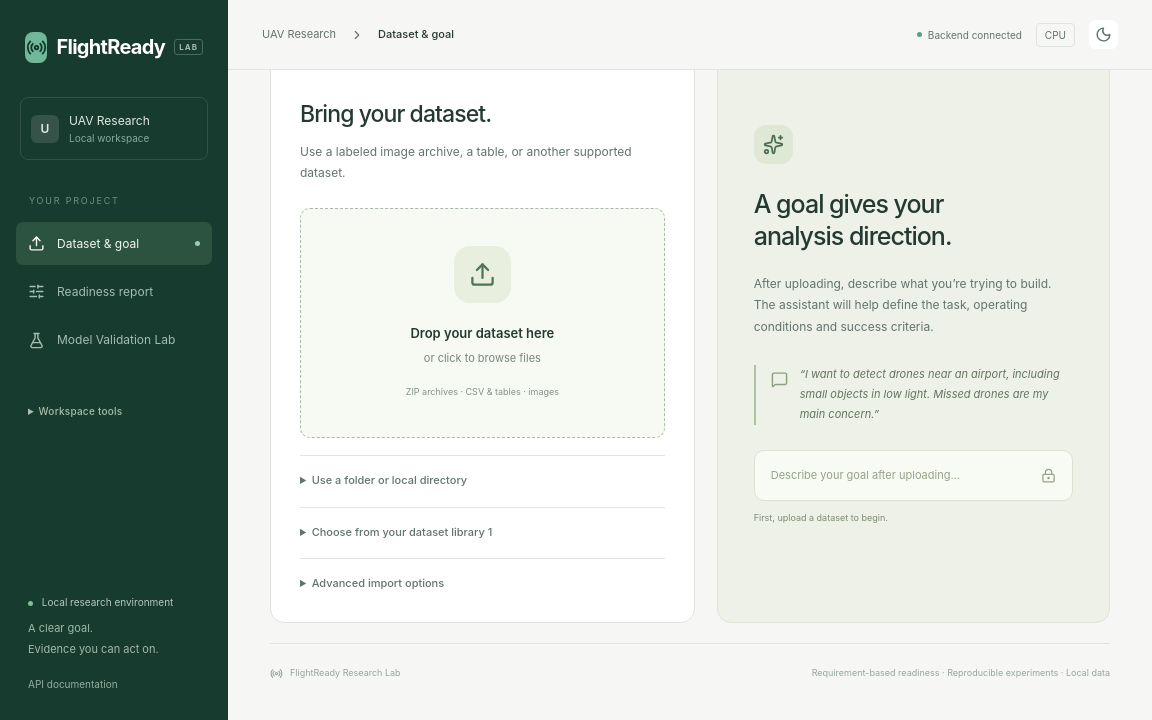
Test: shows the safe Gemini failure reason alongside the local draft
The image size is (1152, 720).
(page scrolled)
Step 1. Click the heading "Choose from your dataset library 1" → [402, 532], box left=312, top=525, right=492, bottom=539
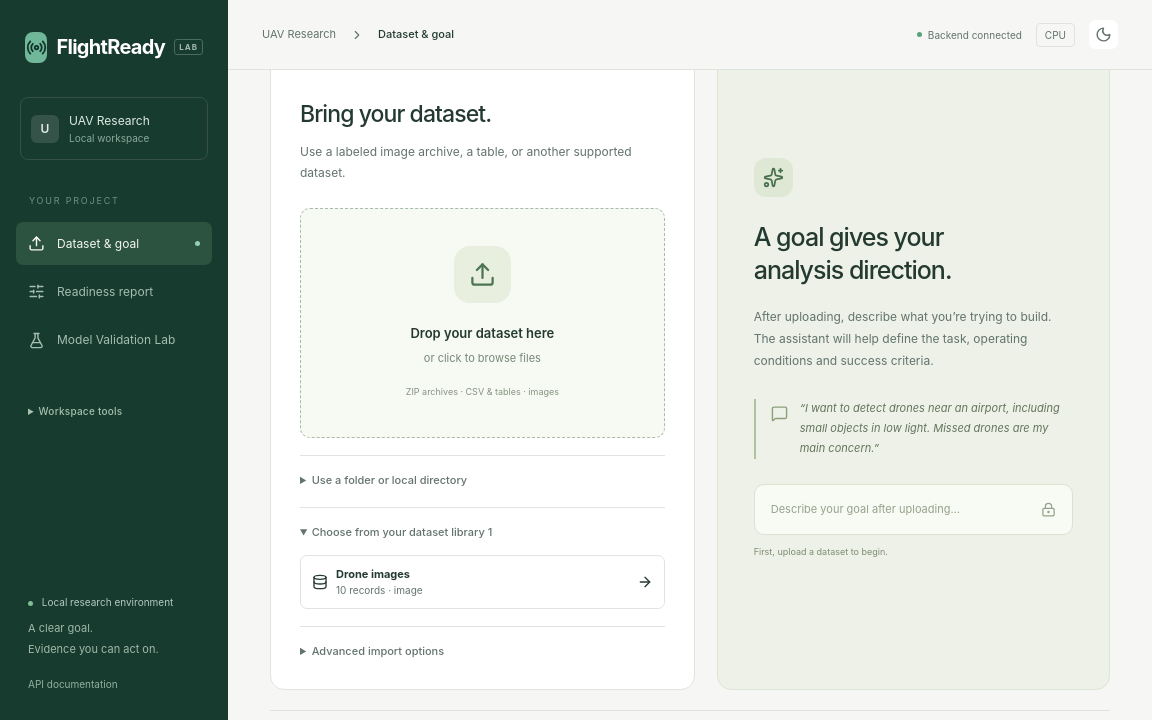
Step 2. Click the button "Drone images 10 records · image" → [373, 574], box left=300, top=555, right=665, bottom=609
(page scrolled)
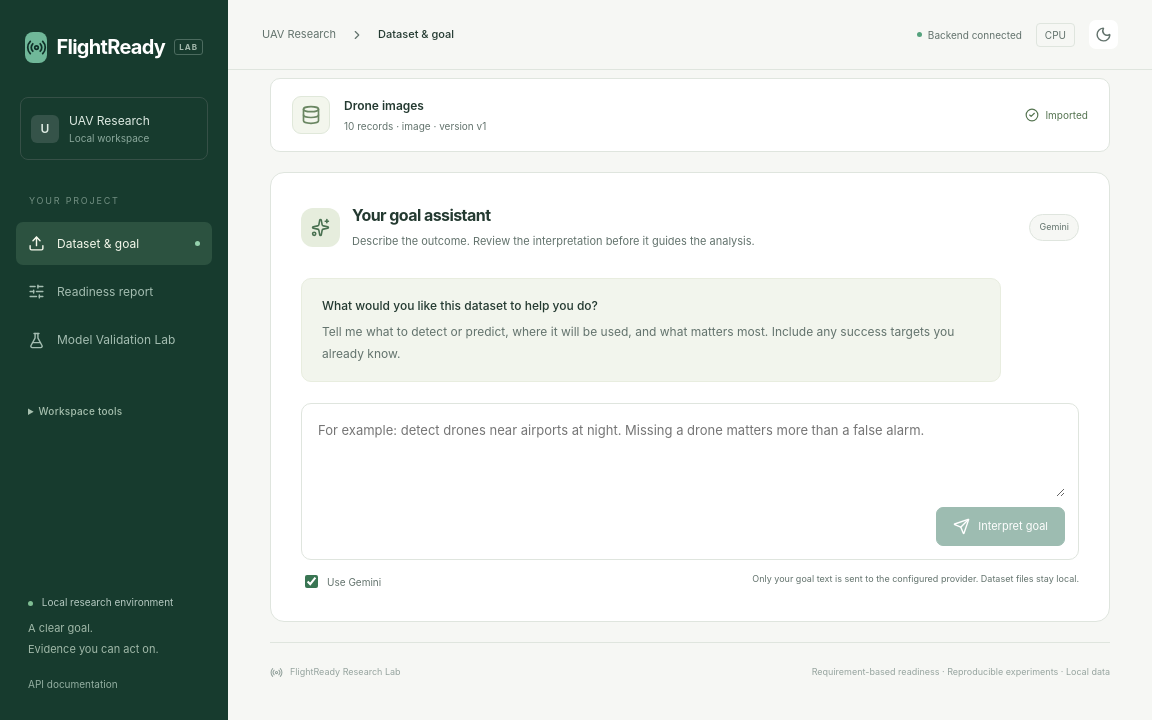
Now the text box named "Describe your goal" is shown
Step 3. Type "Detect drones in images" into the text box named "Describe your goal" → [690, 458], box left=315, top=418, right=1065, bottom=498
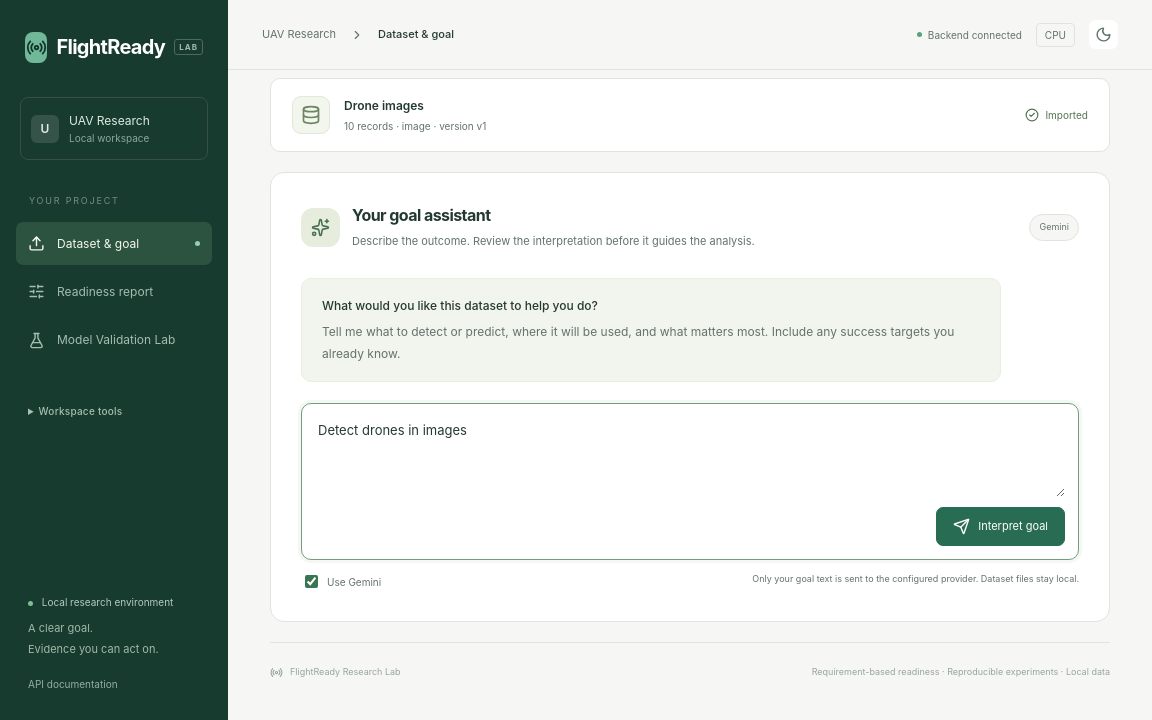
Step 4. Click the button "Interpret goal" → [1001, 527], box left=936, top=508, right=1065, bottom=546
(page scrolled)
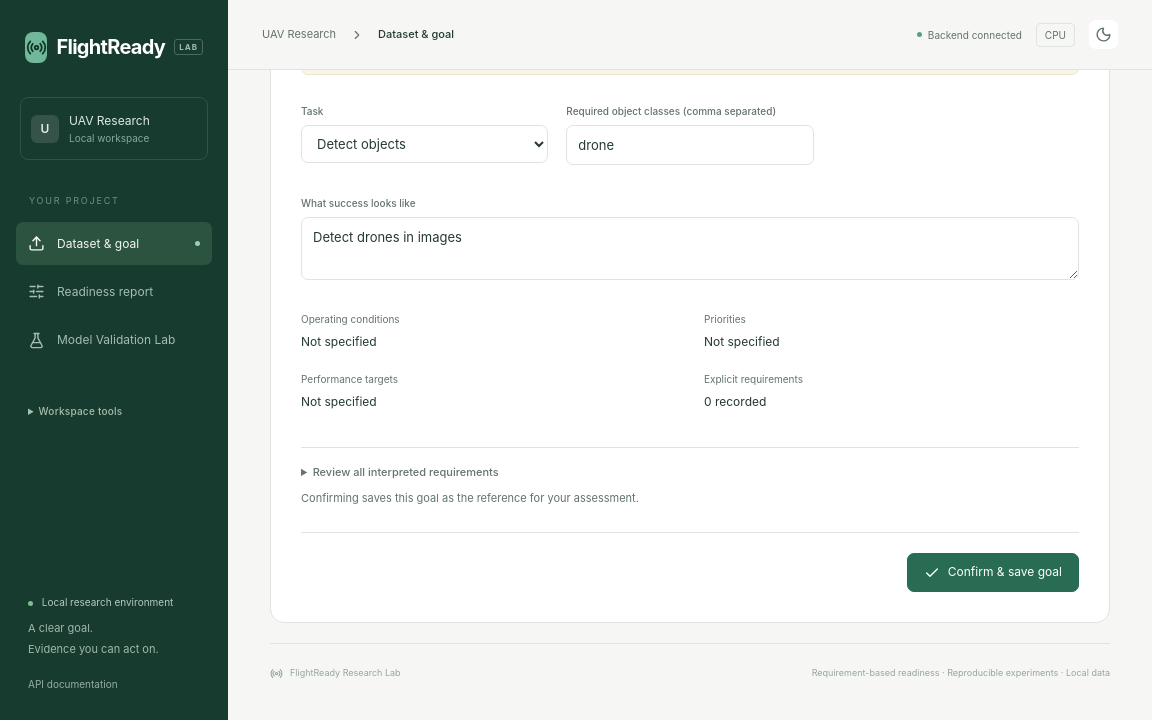
Expected: the text "Gemini quota or rate limit reached (HTTP 429)." is shown, left=319, top=14, right=562, bottom=28
Now the button "Confirm & save goal" is enabled, box left=907, top=553, right=1079, bottom=592
